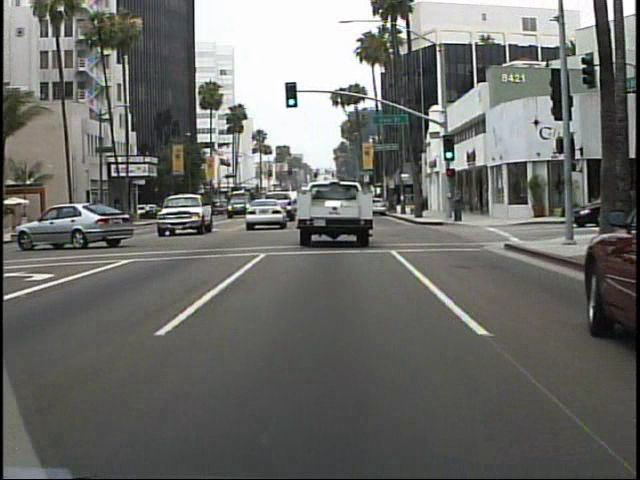person: (448, 182, 466, 225)
